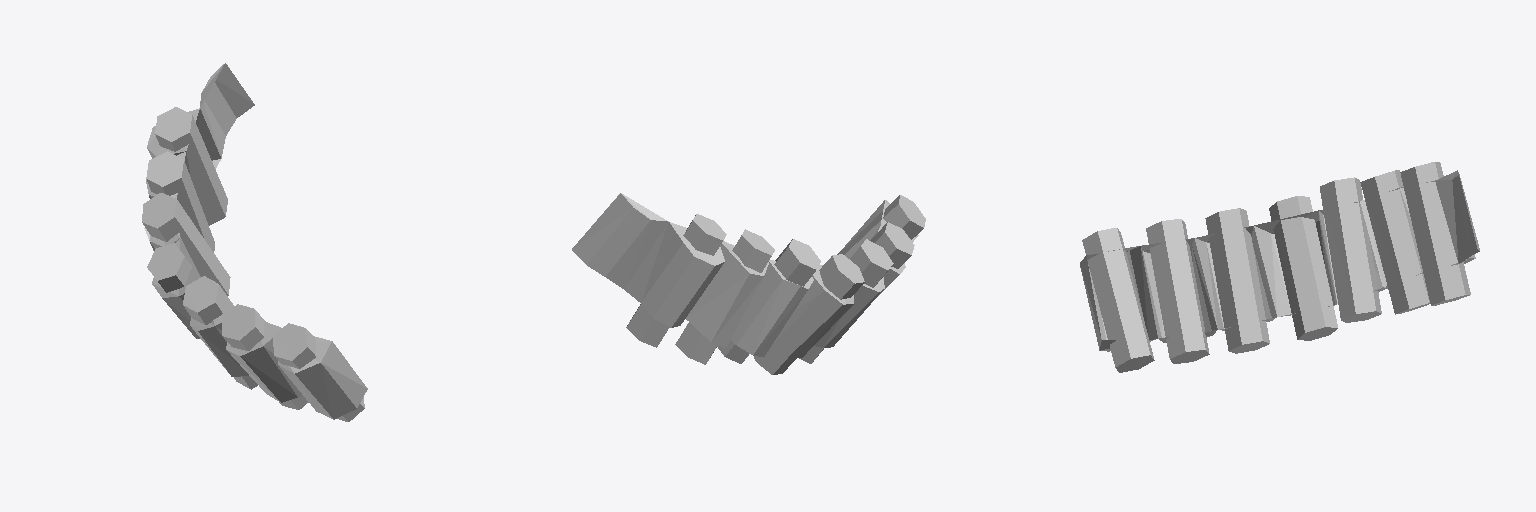
Rendered from hg_belt.obj.
3 renders of one model, left to right at view 1: azimuth 30°, elevation 25°; view 2: azimuth 150°, elevation 25°; view 3: azimuth 270°, elevation 25°, orthographic.
Parts seen in each view (by area): view 1: studio.helghast_assault_medium.smd.mesh_0.008; view 2: studio.helghast_assault_medium.smd.mesh_0.008; view 3: studio.helghast_assault_medium.smd.mesh_0.008.
Part boxes in pixels (x1,y1,x2,y2): studio.helghast_assault_medium.smd.mesh_0.008: (142, 63, 367, 421); studio.helghast_assault_medium.smd.mesh_0.008: (572, 193, 925, 374); studio.helghast_assault_medium.smd.mesh_0.008: (1080, 162, 1479, 372).
Bounding box in the file's own units: 4.9 × 5.45 × 8.68.